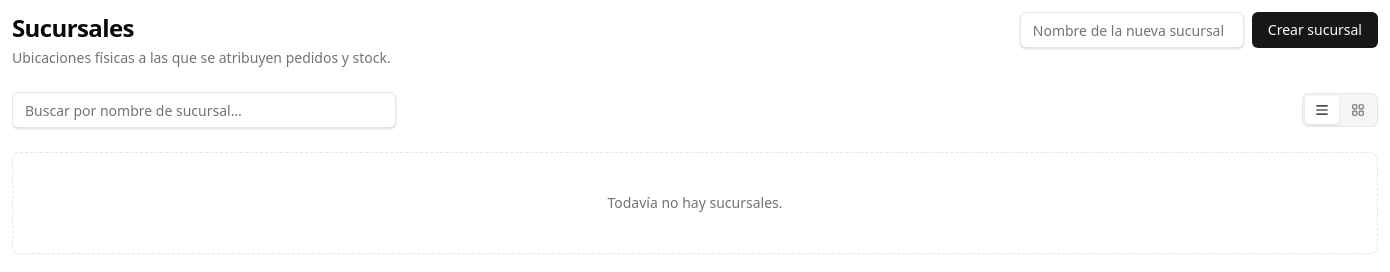
Test case: BranchesScreen › creates a branch and refreshes the list
Check: the text "Todavía no hay sucursales." is shown, box x1=12 y1=152 x2=1378 y2=254
Type "Central warehouse" into the field named "Nombre de la sucursal" at (1132, 30), box x1=1020 y1=12 x2=1244 y2=48
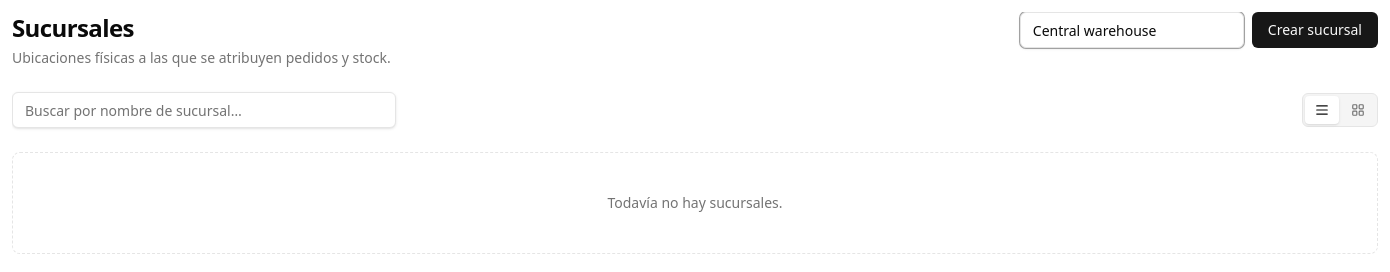
Click the button "Crear sucursal" at (1315, 30), box x1=1252 y1=12 x2=1378 y2=48
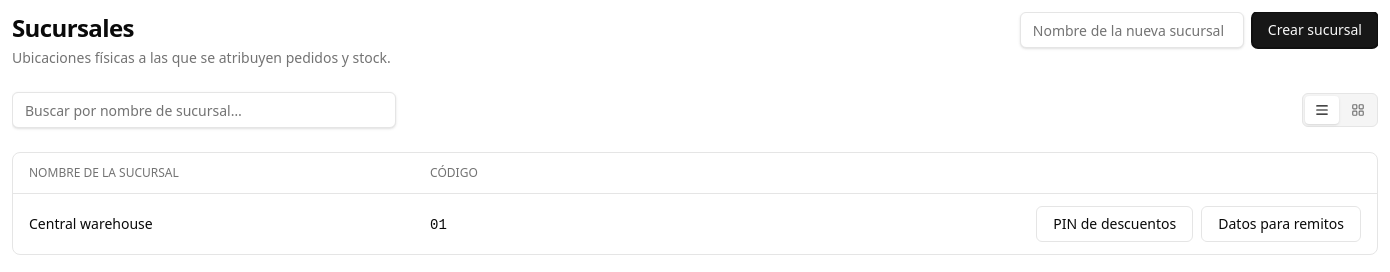
Check: the text "Central warehouse" is shown, box x1=13 y1=194 x2=414 y2=254
Check: the field named "Nombre de la sucursal" is empty, box x1=1020 y1=12 x2=1244 y2=48
